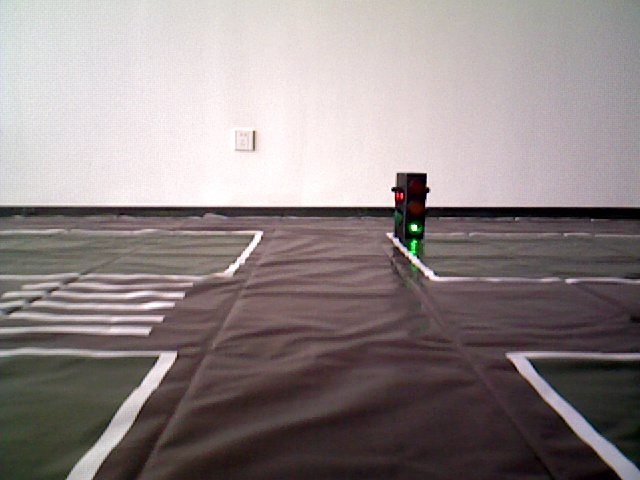green: (396, 171, 421, 236)
